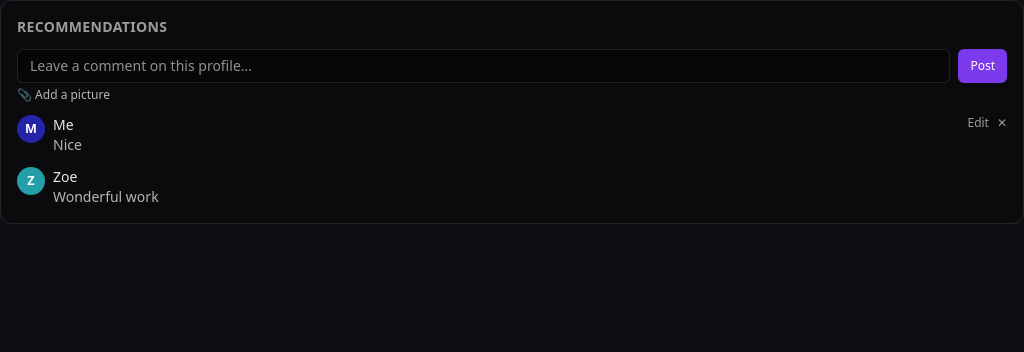
Scenario: ProfileComments: arriving from a notification › lets the author, and only the author, change a testimonial
This screenshot has width=1024, height=352.
expect the text "Wonderful work" is shown: met, box [53,187,159,206]
Click the button with aria-label "Edit your recommendation": (978, 123) [968,115,989,131]
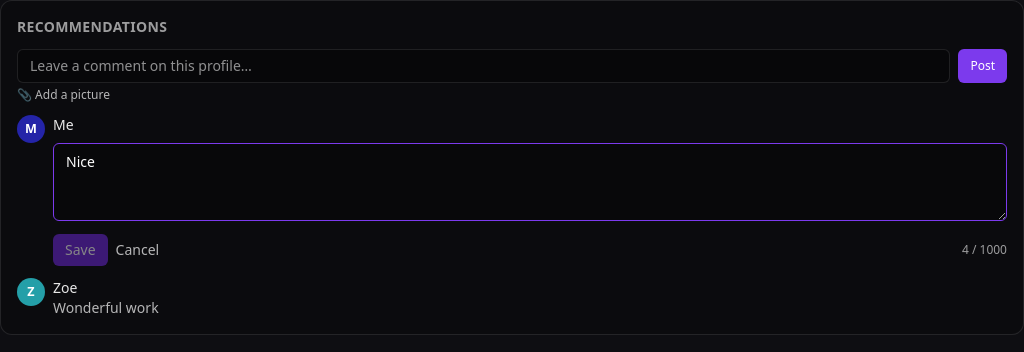
Replace the text in the text box named "Edit recommendation" with "Really nice": (530, 182) [53,143,1007,221]
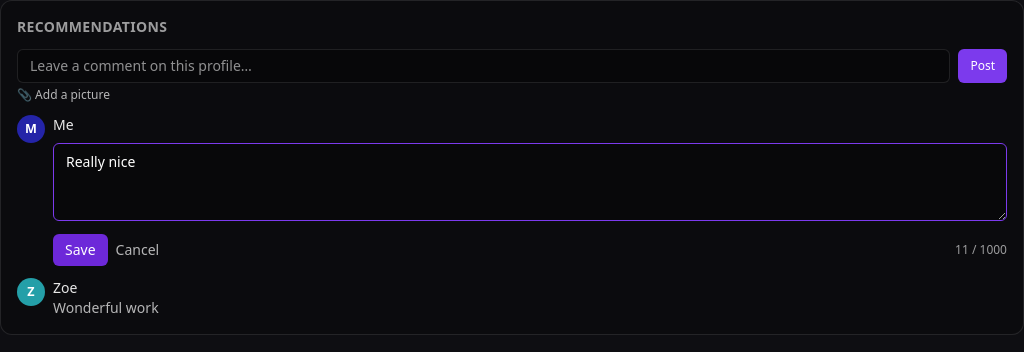
Click the button "Save": (80, 250) [53,234,108,266]
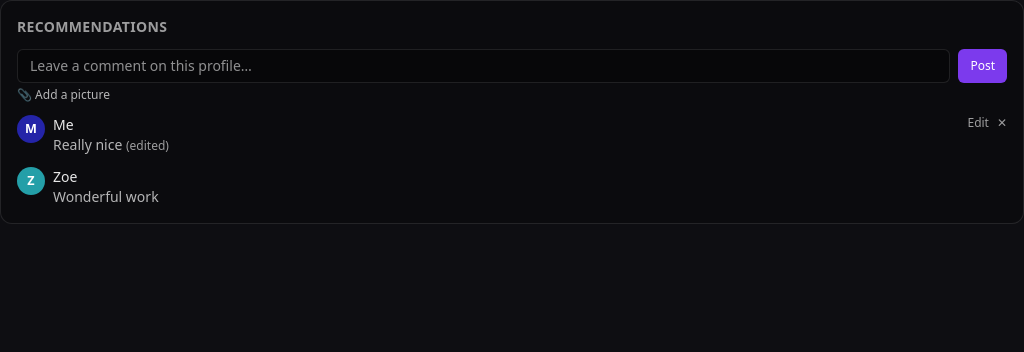
expect the text "Really nice" is shown: met, box [53,135,122,154]
expect the text "(edited)" is shown: met, box [126,137,169,154]
